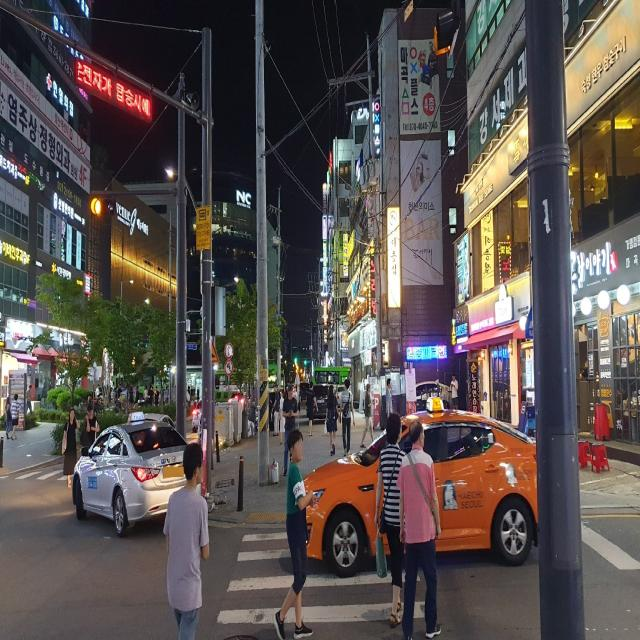횡단보도: (216, 529, 427, 628), (19, 472, 62, 478)
